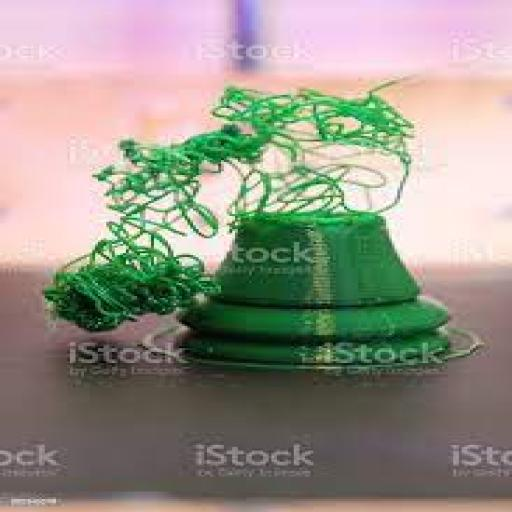spaghetti: (44, 57, 212, 342), (206, 58, 442, 212)
